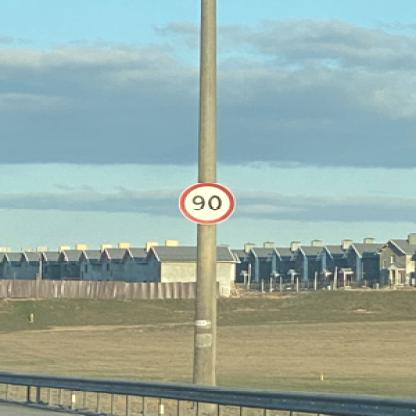speedlimit: (177, 181, 233, 223)
